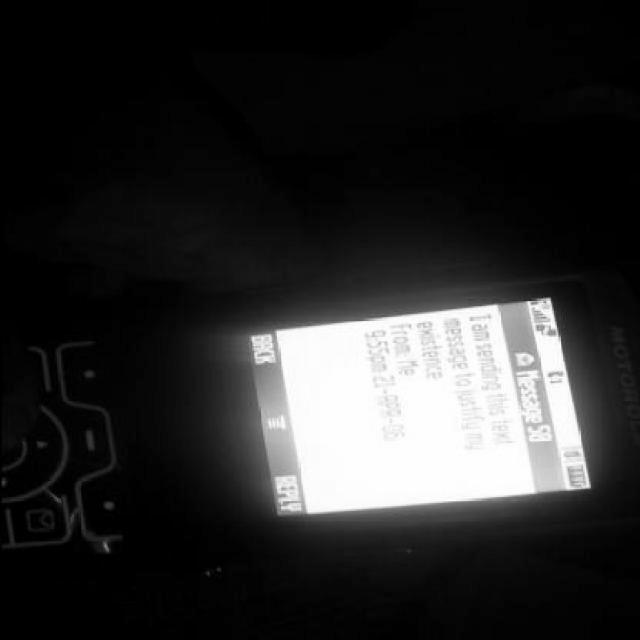fake: (57, 242, 640, 580)
